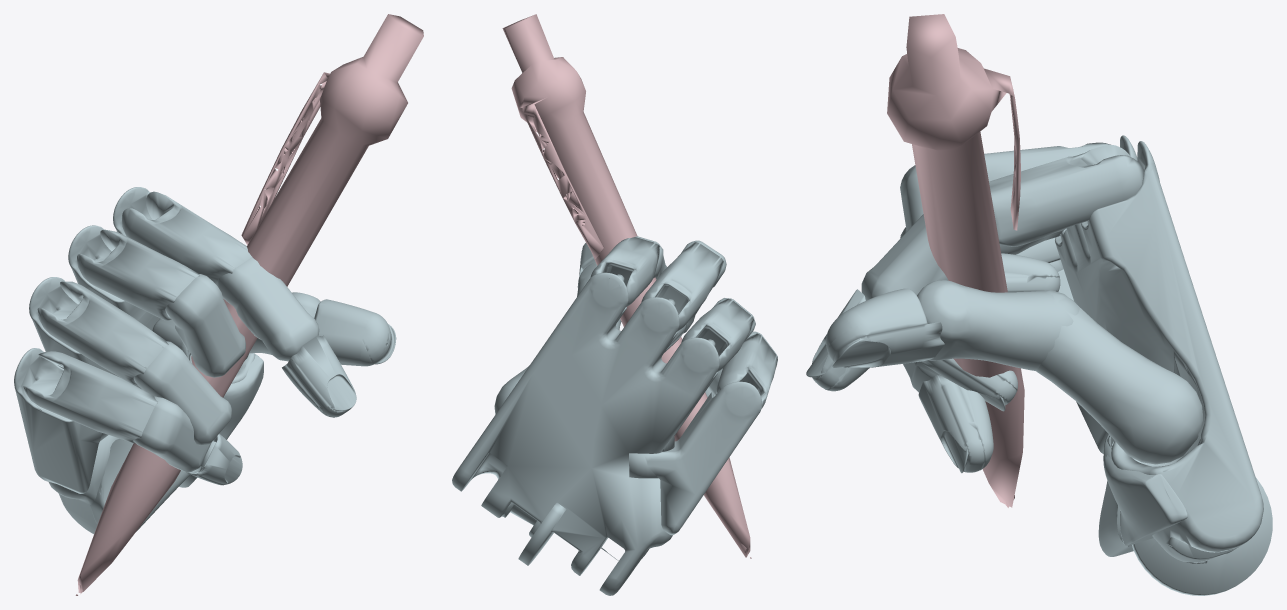
The picture shows the model from 3 angles, left to right: view 1: azimuth 30°, elevation 25°; view 2: azimuth 150°, elevation 25°; view 3: azimuth 270°, elevation 25°; orthographic projection. The views are drawn at different scales.
Visible parts, largest first — view 1: world; view 2: world; view 3: world.
Part boxes in pixels (x1,y1,x2,y2): world: (14, 14, 423, 595); world: (452, 14, 777, 595); world: (806, 14, 1272, 595).
Size of the model in its own units: 0.1395 by 0.2042 by 0.1266.
